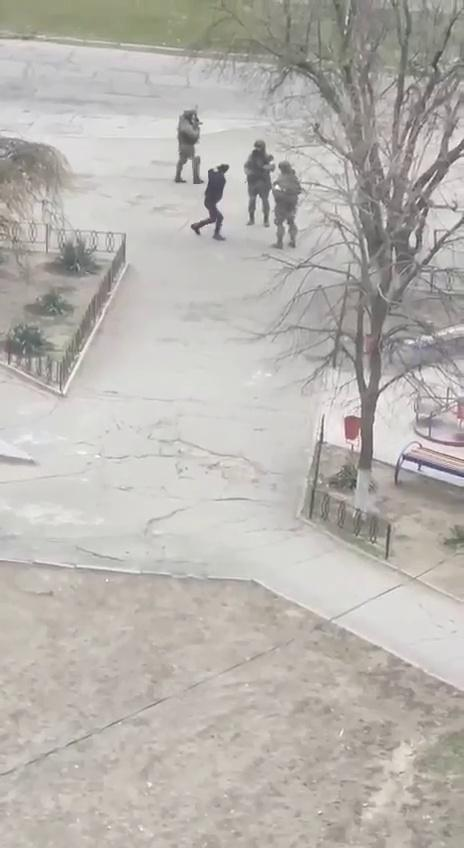person: (191, 164, 230, 242), (244, 140, 276, 228), (271, 160, 302, 249), (174, 104, 205, 184)
